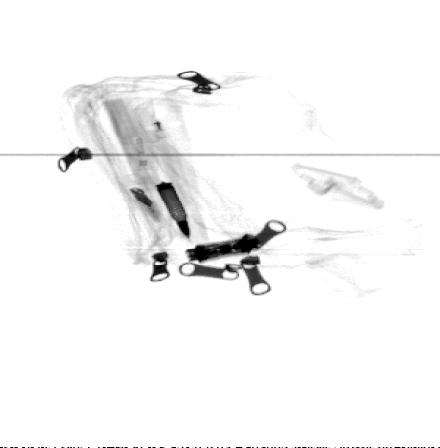Bullet: (153, 178, 193, 242)
